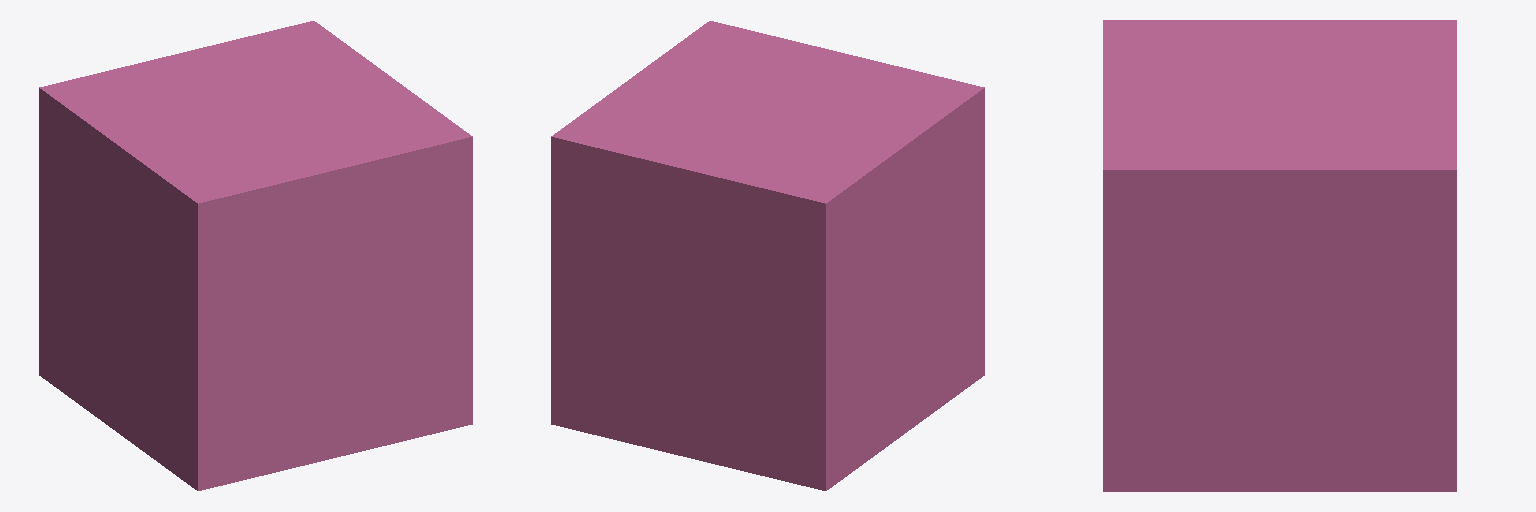
robot.urdf — atlas:
<?xml version="1.0" ?>
<robot name="atlas" xmlns:controller="http://playerstage.sourceforge.net/gazebo/xmlschema/#controller" xmlns:interface="http://playerstage.sourceforge.net/gazebo/xmlschema/#interface" xmlns:sensor="http://playerstage.sourceforge.net/gazebo/xmlschema/#sensor" xmlns:xacro="http://www.ros.org/wiki/xacro">

  <!-- some fake links to fix head at standing/sitting atlas' height -->
  <link name="world"/>
  <link name="map"/>
  <link name="base_link"/>
  <joint name="world_joint"  type="fixed">
    <origin xyz="0 0 0" rpy="0 0 0" /> 
    <parent link="world"/>
    <child link="map"/>
  </joint>
  
  <joint name="map_joint"  type="fixed">
    <origin xyz="0 0 1.56" rpy="0 0 0" /> <!-- atlas standing (1.56) .. sitting in ranger a little higher-->
    <parent link="map"/>
    <child link="base_link"/>
  </joint>

  <joint name="baselink_joint"  type="fixed">
    <origin xyz="0 0 0" rpy="0 0 0" /> <!-- 20deg = 0.523598776 rad -->
    <parent link="base_link"/>
    <child link="head"/>
  </joint>


  <!--                   -->
  <!-- start of head def -->
  <!--                   -->

  <link name="head">
    <inertial>
      <origin rpy="0 0 0" xyz="-0.075493 3.3383E-05 0.02774"/>
      <mass value="1.41984"/>
      <!--<inertia iyy="0.0041178" ixy="-1.5797E-06" iyz="-6.8415E-07" ixx="0.0039688" ixz="-0.00089293" izz="0.0035243" />-->
      <inertia ixx="0.0036053766" ixy="-1.5797E-06" ixz="-0.00089293" iyy="0.002080106" iyz="-6.8415E-07" izz="0.001782985"/>
    </inertial>
    <visual>
      <origin rpy="0 0 0" xyz="0 0 0"/>
      <geometry>
        <mesh filename="package://multisense_sl_description/meshes/head.dae"/>
      </geometry>
      <material name="">
        <color rgba="0.9098 0.44314 0.031373 1"/>
      </material>
    </visual>
    <collision group="default">
      <origin rpy="0 0 0" xyz="-0.0503 0 -0.00195"/>
      <geometry>
        <box size="0.1311 0.12 0.0591"/>
      </geometry>
    </collision>
    <collision group="other">
      <origin rpy="0 0 0" xyz="-0.093 0 0.0868"/>
      <geometry>
        <box size="0.0468 0.12 0.1184"/>
      </geometry>
    </collision>
  </link>
  <link name="hokuyo_link">
    <inertial>
      <origin rpy="0 0 0" xyz="0.012428 0.0004084 -0.0041835"/>
      <mass value="0.057654"/>
      <!--<inertia iyy="4.2412E-05" ixy="4.9927E-08" iyz="-9.8165E-09" ixx="3.7174E-05" ixz="1.1015E-05" izz="4.167E-05" />-->
      <!-- distribute iyy and izz equally between head and hokuyo_link given it's constrainted anyways -->
      <!-- tweak ixx of hokuyo so it's larger, 1/10th of head ixx. -->
      <inertia ixx="0.0004005974" ixy="4.9927E-08" ixz="1.1015E-05" iyy="0.002080106" iyz="-9.8165E-09" izz="0.001782985"/>
    </inertial>
    <visual>
      <!--origin xyz="0.065774 -0.001163 -0.08809" rpy="0 0 0" /-->
      <!--origin xyz="0.045 -0.001163 -0.08809" rpy="-0.314 0 0" /-->
      <origin rpy="-0.314 0 0" xyz="0.045 -0.0261018277 -0.08342369"/>
      <geometry>
        <mesh filename="package://multisense_sl_description/meshes/head_camera.dae"/>
      </geometry>
      <material name="">
        <color rgba="0.72941 0.35686 0.023529 1"/>
      </material>
    </visual>
    <collision group="default">
      <origin rpy="0 0 0" xyz="0.01885 0 -0.02119"/>
      <geometry>
        <box size="0.08 0.06 0.04238"/>
      </geometry>
    </collision>
    <collision group="other">
      <origin rpy="0 0 0" xyz="0.03 0 0.0235"/>
      <geometry>
        <cylinder length="0.047" radius="0.024425"/>
      </geometry>
    </collision>
  </link>
  <joint name="hokuyo_joint" type="continuous">
    <origin rpy="0 0 0" xyz="-0.0446 0 0.0880"/>
    <parent link="head"/>
    <child link="hokuyo_link"/>
    <axis xyz="1 0 0"/>
    <dynamics damping="0.01" friction="0"/>
  </joint>
  <joint name="head_hokuyo_joint" type="fixed">
    <axis xyz="0 1 0"/>
    <origin rpy="0 0 0" xyz="0.03 0 0.015"/>
    <parent link="hokuyo_link"/>
    <child link="head_hokuyo_frame"/>
  </joint>
  <link name="head_hokuyo_frame">
    <inertial>
      <mass value="1e-5"/>
      <!-- collocate with parent link and remove mass from it -->
      <origin rpy="0 0 0" xyz="0.042428 0.0004084 0.0108165"/>
      <inertia ixx="1e-6" ixy="0" ixz="0" iyy="1e-6" iyz="0" izz="1e-6"/>
    </inertial>
  </link>
  <gazebo reference="head_hokuyo_frame">
    <sensor name="head_hokuyo_sensor" type="gpu_ray">
      <pose>0 0 0 0 0 0</pose>
      <visualize>false</visualize>
      <update_rate>40</update_rate>
      <ray>
        <scan>
          <horizontal>
            <samples>720</samples>
            <resolution>1</resolution>
            <min_angle>-1.570796</min_angle>
            <max_angle>1.570796</max_angle>
          </horizontal>
        </scan>
        <range>
          <min>0.10</min>
          <max>30.0</max>
          <resolution>0.01</resolution>
        </range>
        <noise>
          <type>gaussian</type>
          <!-- Noise parameters based on published spec for Hokuyo laser
               achieving "+-30mm" accuracy at range < 10m.  A mean of 0.0m and
               stddev of 0.01m will put 99.7% of samples within 0.03m of the true
               reading. -->
          <mean>0.0</mean>
          <stddev>0.0</stddev>
        </noise>
      </ray>
      <plugin filename="libgazebo_ros_gpu_laser.so" name="gazebo_ros_head_hokuyo_controller">
        <topicName>/multisense_sl/laser/scan</topicName>
        <frameName>head_hokuyo_frame</frameName>
      </plugin>
    </sensor>
  </gazebo>
  <joint name="left_camera_frame_joint" type="fixed">
    <!-- optical frame collocated with tilting DOF -->
    <origin xyz="0.0 0.035 -0.002"/>
    <parent link="head"/>
    <child link="left_camera_frame"/>
  </joint>
  <link name="left_camera_frame">
    <inertial>
      <mass value="1e-5"/>
      <!-- collocate with parent link and remove mass from it -->
      <origin xyz="-0.075493 0.035033383 0.02574"/>
      <inertia ixx="1e-6" ixy="0" ixz="0" iyy="1e-6" iyz="0" izz="1e-6"/>
    </inertial>
  </link>
  <joint name="left_camera_optical_frame_joint" type="fixed">
    <origin rpy="-1.5708 0.0 -1.5708" xyz="0 0 0"/>
    <parent link="left_camera_frame"/>
    <child link="left_camera_optical_frame"/>
  </joint>
  <link name="left_camera_optical_frame"/>
  <gazebo reference="left_camera_frame">
    <sensor name="stereo_camera" type="multicamera">
      <!-- see MultiSenseSLPlugin.h for available modes -->
      <update_rate>30.0</update_rate>
      <camera name="left">
        <!-- Spec sheet says 80deg X 45deg @ 1024x544pix.  Based on feedback
             from teams, we're instead doing 80deg X 80deg @ 800x800pix. -->
        <horizontal_fov>1.3962634</horizontal_fov>
        <image>
          <width>800</width>
          <height>800</height>
          <format>R8G8B8</format>
        </image>
        <clip>
          <near>0.02</near>
          <far>300</far>
        </clip>
        <noise>
          <type>gaussian</type>
          <!-- Noise is sampled independently per pixel on each frame.  
               That pixel's noise value is added to each of its color
               channels, which at that point lie in the range [0,1].
               The stddev value of 0.007 is based on experimental data 
               from a camera in a Sandia hand pointed at a static scene
               in a couple of different lighting conditions.  -->
          <mean>0.0</mean>
          <stddev>0.007</stddev>
        </noise>
      </camera>
      <camera name="right">
        <pose>0 -0.07 0 0 0 0</pose>
        <!-- Spec sheet says 80deg X 45deg @ 1024x544pix.  Based on feedback
             from teams, we're instead doing 80deg X 80deg @ 800x800pix. -->
        <horizontal_fov>1.3962634</horizontal_fov>
        <image>
          <width>800</width>
          <height>800</height>
          <format>R8G8B8</format>
        </image>
        <clip>
          <near>0.02</near>
          <far>300</far>
        </clip>
        <noise>
          <type>gaussian</type>
          <!-- Noise is sampled independently per pixel on each frame.  
               That pixel's noise value is added to each of its color
               channels, which at that point lie in the range [0,1].
               The stddev value of 0.007 is based on experimental data 
               from a camera in a Sandia hand pointed at a static scene
               in a couple of different lighting conditions.  -->
          <mean>0.0</mean>
          <stddev>0.007</stddev>
        </noise>
      </camera>
      <plugin filename="libgazebo_ros_multicamera.so" name="stereo_camera_controller">
        <alwaysOn>true</alwaysOn>
        <updateRate>0.0</updateRate>
        <cameraName>multisense_sl/camera</cameraName>
        <imageTopicName>image_raw</imageTopicName>
        <cameraInfoTopicName>camera_info</cameraInfoTopicName>
        <frameName>left_camera_optical_frame</frameName>
        <!--<rightFrameName>right_camera_optical_frame</rightFrameName>-->
        <hackBaseline>0.07</hackBaseline>
        <distortionK1>0.0</distortionK1>
        <distortionK2>0.0</distortionK2>
        <distortionK3>0.0</distortionK3>
        <distortionT1>0.0</distortionT1>
        <distortionT2>0.0</distortionT2>
      </plugin>
    </sensor>
  </gazebo>
  <joint name="right_camera_frame_joint" type="fixed">
    <origin xyz="0.0 -0.035 -0.002"/>
    <parent link="head"/>
    <child link="right_camera_frame"/>
  </joint>
  <link name="right_camera_frame">
    <inertial>
      <mass value="1e-5"/>
      <!-- collocate with parent link and remove mass from it -->
      <origin xyz="-0.075493 -0.034966617 0.02574"/>
      <inertia ixx="1e-6" ixy="0" ixz="0" iyy="1e-6" iyz="0" izz="1e-6"/>
    </inertial>
  </link>
  <joint name="right_camera_optical_frame_joint" type="fixed">
    <origin rpy="-1.5708 0.0 -1.5708" xyz="0 0 0"/>
    <parent link="right_camera_frame"/>
    <child link="right_camera_optical_frame"/>
  </joint>
  <link name="right_camera_optical_frame"/>
  <joint name="center_top_led_frame_joint" type="fixed">
    <origin xyz="0.01125 0.0 0.0105"/>
    <parent link="head"/>
    <child link="center_top_led_frame"/>
  </joint>
  <link name="center_top_led_frame">
    <inertial>
      <mass value="1e-5"/>
      <!-- collocate with parent link and remove mass from it -->
      <origin rpy="0 0 0" xyz="-0.064243 0.000033383 0.03824"/>
      <inertia ixx="1e-6" ixy="0" ixz="0" iyy="1e-6" iyz="0" izz="1e-6"/>
    </inertial>
  </link>
  <joint name="center_bottom_led_frame_joint" type="fixed">
    <origin xyz="0.01125 0.0 -0.0155"/>
    <parent link="head"/>
    <child link="center_bottom_led_frame"/>
  </joint>
  <link name="center_bottom_led_frame">
    <inertial>
      <mass value="1e-5"/>
      <!-- collocate with parent link and remove mass from it -->
      <origin rpy="0 0 0" xyz="-0.064243 0.000033383 0.01224"/>
      <inertia ixx="1e-6" ixy="0" ixz="0" iyy="1e-6" iyz="0" izz="1e-6"/>
    </inertial>
  </link>
  <joint name="left_led_frame_joint" type="fixed">
    <origin rpy="0 -0.15 0.53" xyz="-0.01443 0.07452 0.050346"/>
    <parent link="head"/>
    <child link="left_led_frame"/>
  </joint>
  <link name="left_led_frame">
    <inertial>
      <mass value="1e-5"/>
      <!-- collocate with parent link and remove mass from it -->
      <origin rpy="0 -0.15 0.53" xyz="-0.089923 0.074553383 0.078086"/>
      <inertia ixx="1e-6" ixy="0" ixz="0" iyy="1e-6" iyz="0" izz="1e-6"/>
    </inertial>
  </link>
  <joint name="right_led_frame_joint" type="fixed">
    <origin rpy="0 -0.15 -0.53" xyz="-0.01443 -0.07452 0.050346"/>
    <parent link="head"/>
    <child link="right_led_frame"/>
  </joint>
  <link name="right_led_frame">
    <inertial>
      <mass value="1e-5"/>
      <!-- collocate with parent link and remove mass from it -->
      <origin rpy="0 -0.15 -0.53" xyz="-0.089923 -0.074486617 0.07908"/>
      <inertia ixx="1e-6" ixy="0" ixz="0" iyy="1e-6" iyz="0" izz="1e-6"/>
    </inertial>
  </link>
  <gazebo>
    <plugin filename="libMultiSenseSLPlugin.so" name="multisense_plugin"/>
  </gazebo>
  <link name="head_imu_link">
    <inertial>
      <mass value="1e-5"/>
      <!-- collocate with parent link and remove mass from it -->
      <origin rpy="0 0 0" xyz="-0.122993 0.035033383 0.02774"/>
      <inertia ixx="1e-6" ixy="0" ixz="0" iyy="1e-6" iyz="0" izz="1e-6"/>
    </inertial>
    <visual>
      <origin rpy="0 0 0" xyz="0 0 0"/>
      <geometry>
        <box size="0.01 0.01 0.01"/>
      </geometry>
    </visual>
  </link>
  <joint name="head_imu_joint" type="fixed">
    <parent link="head"/>
    <child link="head_imu_link"/>
    <!-- putting it at the same z-level as the stereo -->
    <origin rpy="0 0 0" xyz="-0.0475 0.035 0.0"/>
  </joint>
  <gazebo reference="head_imu_link">
    <!-- this is expected to be reparented to head with appropriate offset
         when head_imu_link is reduced by fixed joint reduction -->
    <!-- todo: this is working with gazebo 1.4, need to write a unit test -->
    <sensor name="head_imu_sensor" type="imu">
      <always_on>1</always_on>
      <update_rate>1000.0</update_rate>
      <imu>
        <noise>
          <type>gaussian</type>
          <!-- Noise parameters from Boston Dynamics
               (http://gazebosim.org/wiki/Sensor_noise):
                 rates (rad/s): mean=0, stddev=2e-4
                 accels (m/s/s): mean=0, stddev=1.7e-2
                 rate bias (rad/s): 5e-6 - 1e-5
                 accel bias (m/s/s): 1e-1
               Experimentally, simulation provide rates with noise of
               about 1e-3 rad/s and accels with noise of about 1e-1 m/s/s.
               So we don't expect to see the noise unless number of inner iterations
               are increased.

               We will add bias.  In this model, bias is sampled once for rates
               and once for accels at startup; the sign (negative or positive)
               of each bias is then switched with equal probability.  Thereafter,
               the biases are fixed additive offsets.  We choose
               bias means and stddevs to produce biases close to the provided
               data. -->
          <rate>
            <mean>0.0</mean>
            <stddev>2e-4</stddev>
            <bias_mean>0.0000075</bias_mean>
            <bias_stddev>0.0000008</bias_stddev>
          </rate>
          <accel>
            <mean>0.0</mean>
            <stddev>1.7e-2</stddev>
            <bias_mean>0.1</bias_mean>
            <bias_stddev>0.001</bias_stddev>
          </accel>
        </noise>
      </imu>
    </sensor>
  </gazebo>



</robot>

--- What the picture shows (computed from the rendered views, not written in the file) ---
The picture shows the robot from 3 angles, left to right: view 1: azimuth 30°, elevation 25°; view 2: azimuth 150°, elevation 25°; view 3: azimuth 270°, elevation 25°; orthographic projection.
Robot: atlas — 15 links, 14 joints (1 continuous, 13 fixed); root link world; default pose: all joints at 0.
Links seen in each view (by area): view 1: head_imu_link; view 2: head_imu_link; view 3: head_imu_link.
Link boxes in pixels (bbox=[...]): head_imu_link: bbox=[39, 21, 472, 490]; head_imu_link: bbox=[551, 21, 984, 490]; head_imu_link: bbox=[1103, 20, 1456, 491].
Size in the robot's own frame: 0.01 by 0.01 by 0.01 metres.
0 mesh visuals loaded from 2 distinct referenced files (none loaded); not drawn: 2 (reference not matched to a file when rendering).